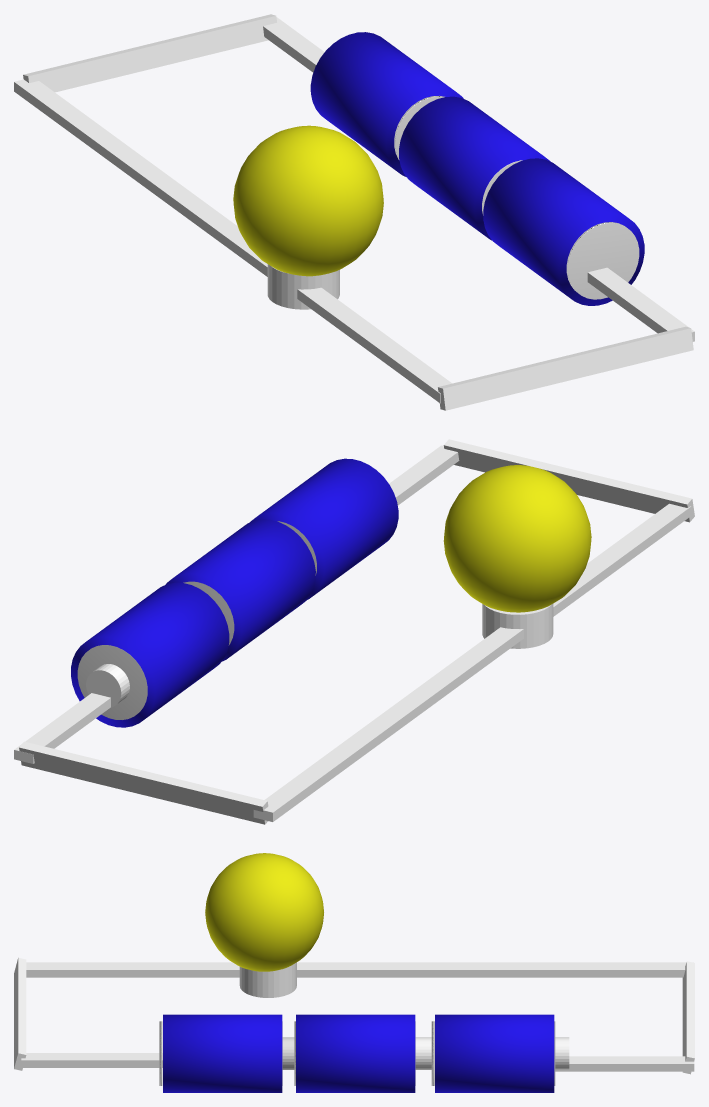
Rendered from rangkaian_listrik.glb.
The picture shows the model from 3 angles, top to bottom: view 1: azimuth 30°, elevation 25°; view 2: azimuth 150°, elevation 25°; view 3: azimuth 270°, elevation 25°; orthographic projection. The views are drawn at different scales.
Visible parts, largest first — view 1: Sphere, Cylinder.006, Cylinder.003, Cylinder.000, Cube.001, Cube.004, Cube, Cube.006, Cylinder.007, Cube.005, Cube.002, Cylinder.004 (+1 smaller); view 2: Sphere, Cylinder.003, Cylinder.000, Cylinder.006, Cube.004, Cube.001, Cube.006, Cube.005, Cube, Cylinder.011, Cube.003, Cylinder.004 (+3 smaller); view 3: Sphere, Cylinder.006, Cylinder.000, Cylinder.003, Cube, Cube.005, Cube.006, Cube.002, Cube.003, Cylinder.004, Cube.001, Cube.004 (+3 smaller).
Boxes of the visible parts, x1,y1,x2,y2 form: Sphere: [233, 125, 383, 276]; Cylinder.006: [483, 158, 644, 305]; Cylinder.003: [310, 32, 463, 176]; Cylinder.000: [399, 96, 550, 240]; Cube.001: [438, 326, 693, 410]; Cube.004: [23, 14, 276, 92]; Cube: [297, 287, 452, 403]; Cube.006: [14, 79, 176, 186]; Cylinder.007: [566, 222, 639, 299]; Cube.005: [135, 171, 267, 276]; Cube.002: [587, 267, 694, 341]; Cylinder.004: [267, 264, 339, 309]; Sphere: [443, 465, 591, 612]; Cylinder.003: [71, 582, 229, 727]; Cylinder.000: [165, 519, 315, 661]; Cylinder.006: [249, 458, 398, 599]; Cube.004: [19, 741, 268, 824]; Cube.001: [443, 439, 694, 522]; Cube.006: [253, 707, 413, 821]; Cube.005: [373, 627, 523, 734]; Cube: [553, 503, 691, 616]; Cylinder.011: [77, 645, 147, 719]; Cube.003: [14, 693, 110, 763]; Cylinder.004: [482, 604, 553, 648]; Sphere: [205, 853, 323, 971]; Cylinder.006: [163, 1014, 282, 1092]; Cylinder.000: [296, 1014, 415, 1092]; Cylinder.003: [435, 1014, 554, 1092]; Cube: [26, 962, 239, 977]; Cube.005: [297, 962, 501, 977]; Cube.006: [467, 962, 693, 977]; Cube.002: [21, 1053, 162, 1067]; Cube.003: [555, 1056, 694, 1071]; Cylinder.004: [239, 962, 296, 997]; Cube.001: [14, 957, 26, 1070]; Cube.004: [682, 961, 694, 1074].
Bounding box in the file's own units: 5.16 × 2.64 × 11.44.
